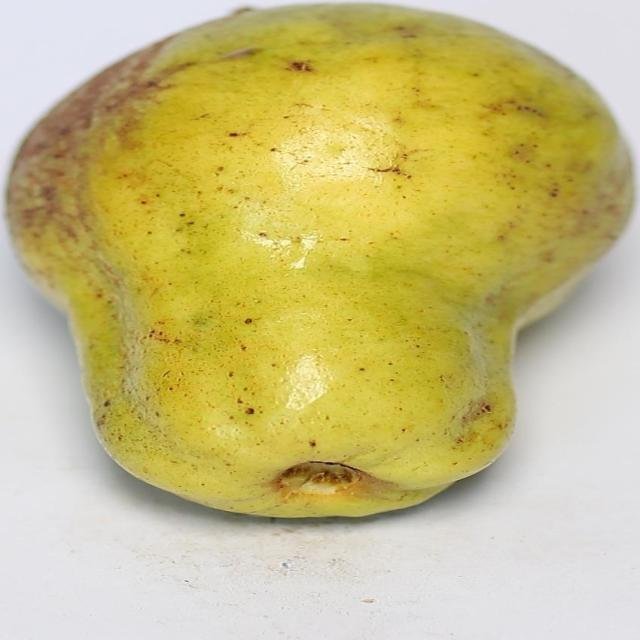Good_Guava: (4, 2, 635, 522)
